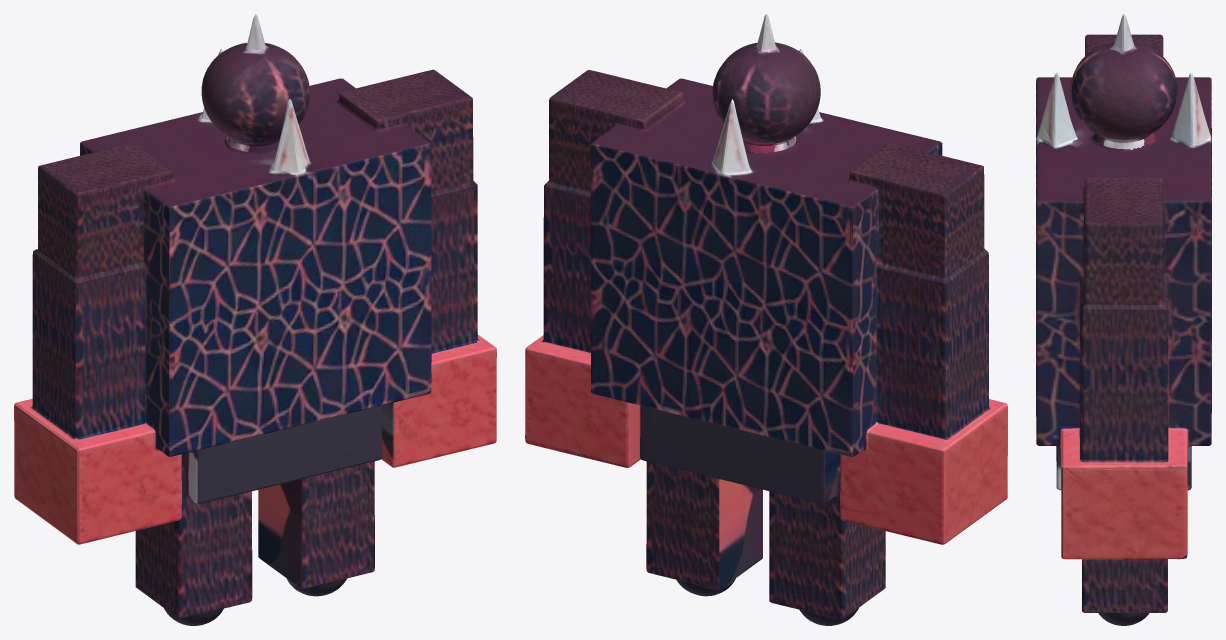
The model's file is creature-134.lod.glb.
3 renders of one model, left to right at view 1: azimuth 30°, elevation 25°; view 2: azimuth 150°, elevation 25°; view 3: azimuth 270°, elevation 25°, orthographic. The views are drawn at different scales.
Visible parts, largest first — view 1: tmpqrhjh6jh.ply; view 2: tmpqrhjh6jh.ply; view 3: tmpqrhjh6jh.ply.
Part boxes in pixels (<box>): tmpqrhjh6jh.ply: <box>14,14,496,625</box>; tmpqrhjh6jh.ply: <box>525,14,1007,625</box>; tmpqrhjh6jh.ply: <box>1036,14,1211,625</box>.
Size of the model in its own units: 1.47 by 1.99 by 0.5474.
1 material, 1 textured.
